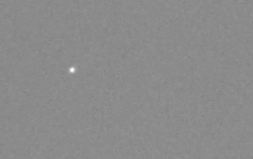Target: (70, 68, 75, 73)
